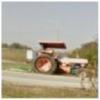tractors: (32, 40, 92, 80)
